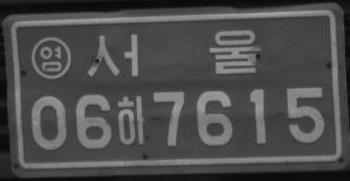0: (31, 94, 67, 151)
1: (240, 88, 276, 144)
5: (286, 86, 325, 144)
6: (195, 89, 233, 148), (75, 93, 112, 150)
7: (152, 89, 185, 147)
서울_D: (86, 29, 262, 77)
영: (30, 36, 72, 80)
하: (115, 94, 146, 146)
